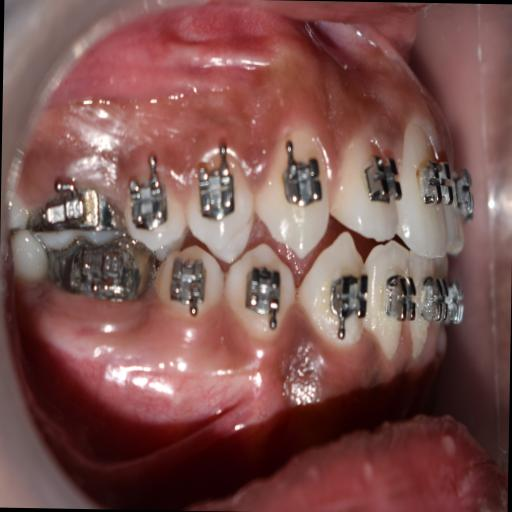correct_brace: (187, 146, 257, 262), (222, 244, 297, 344), (274, 136, 324, 214), (234, 262, 290, 330), (320, 266, 365, 342), (359, 147, 400, 217), (165, 260, 211, 320)
incorrect_brace: (332, 131, 402, 241), (195, 160, 240, 222)
